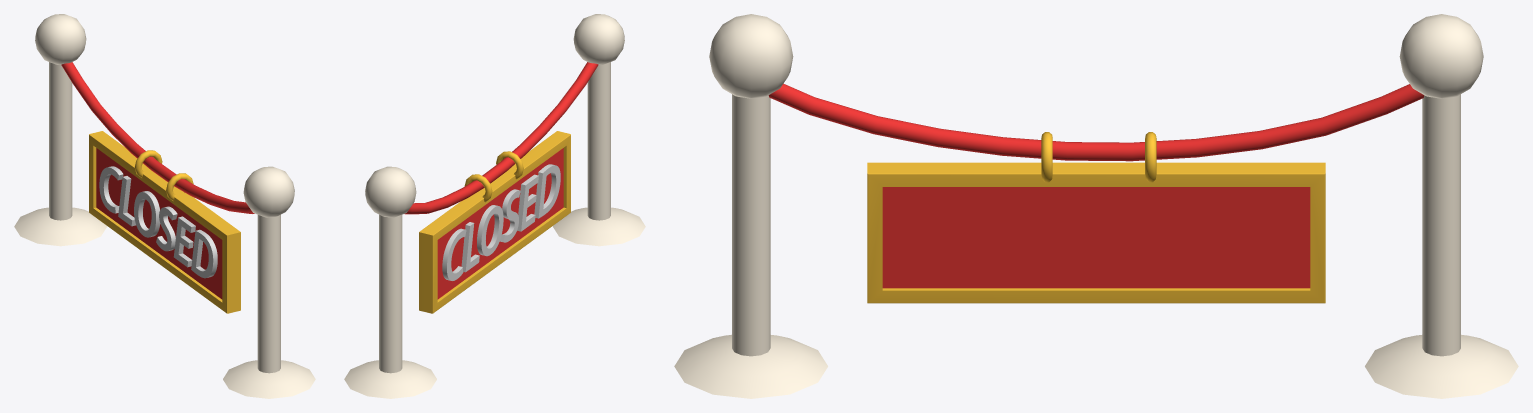
Rendered from Closed_name_gate.fbx.
3 views of the same model, side by side, from view 1: azimuth 30°, elevation 25°; view 2: azimuth 150°, elevation 25°; view 3: azimuth 270°, elevation 25° (orthographic). The views are drawn at different scales.
Visible parts, largest first — view 1: Board, Piller, Piller_2, Closed_name, Rope; view 2: Board, Piller_2, Piller, Closed_name, Rope; view 3: Board, Piller, Piller_2, Rope.
Boxes of the visible parts, box(x1,y1,x2,y2) form: Board: box(89, 131, 240, 313); Piller: box(223, 166, 315, 398); Piller_2: box(14, 14, 106, 246); Closed_name: box(99, 166, 217, 278); Rope: box(61, 62, 254, 213); Board: box(419, 131, 570, 313); Piller_2: box(344, 166, 436, 398); Piller: box(553, 14, 645, 246); Closed_name: box(442, 164, 560, 280); Rope: box(404, 62, 598, 214); Board: box(867, 132, 1325, 303); Piller: box(674, 14, 827, 398); Piller_2: box(1365, 14, 1518, 398); Rope: box(768, 83, 1424, 161).
Size of the model in its own units: 1.34 by 3.34 by 7.34.
